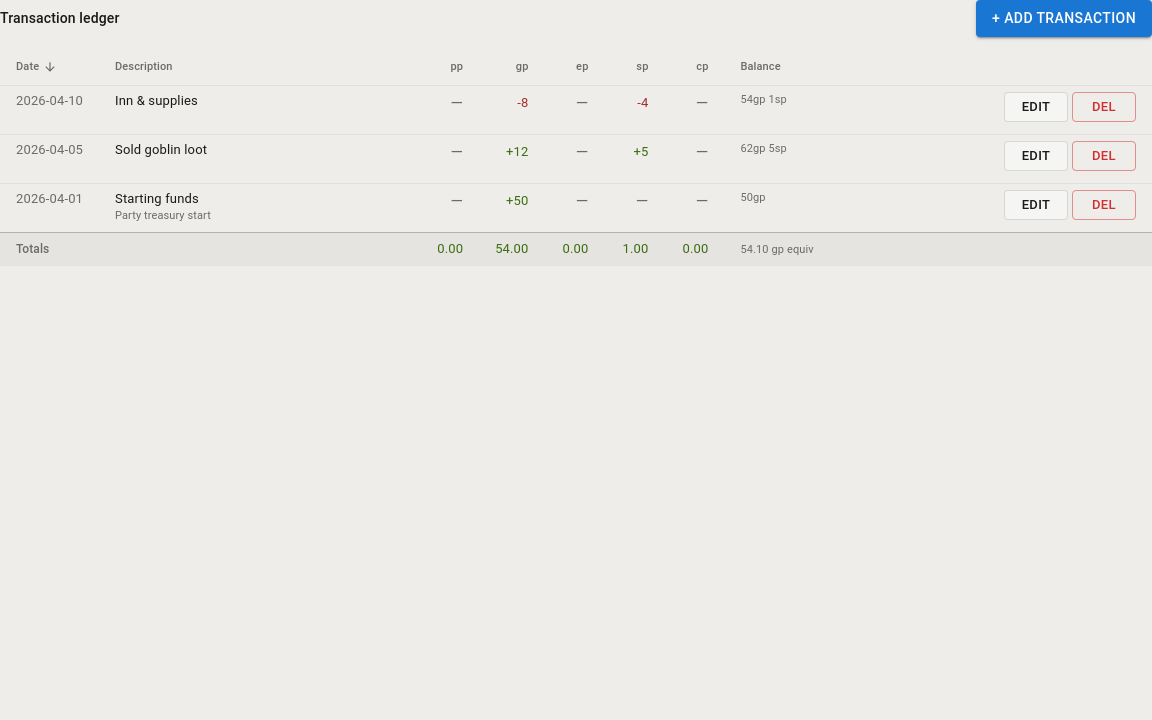
it: Ledger › opens the transaction modal when Add is clicked
Click the button "+ Add transaction". click: point(1064, 18)
box: [976, 0, 1151, 36]
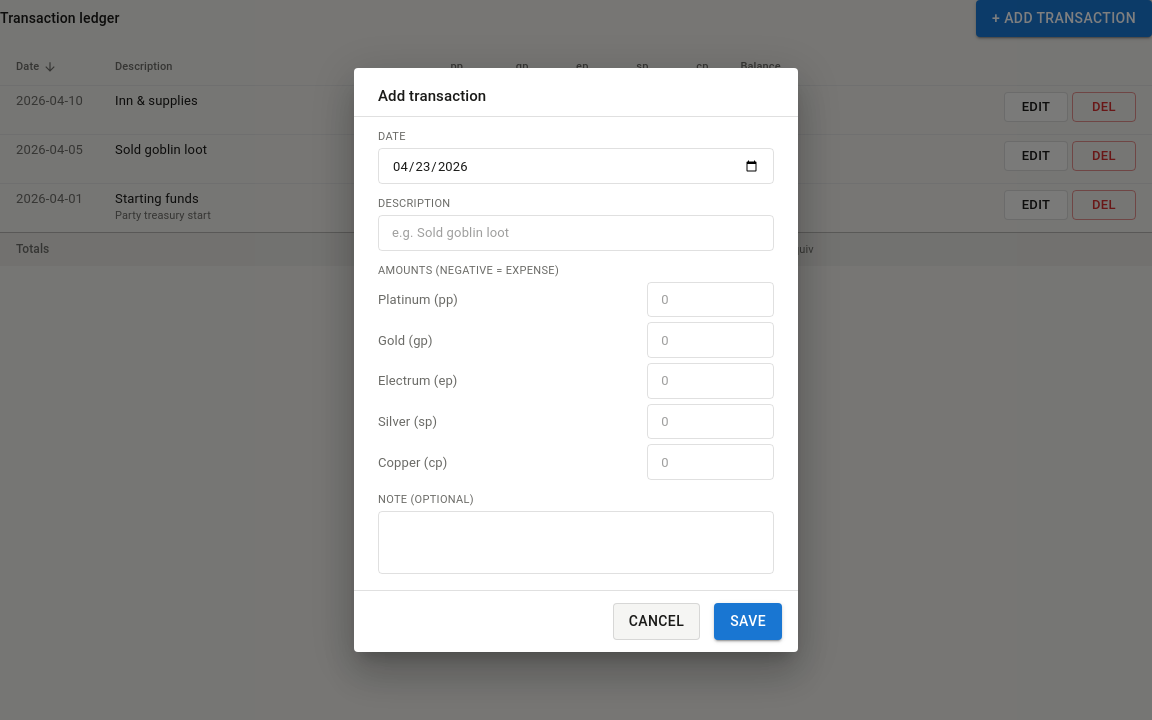
Result: the heading "Add transaction" is shown at [378, 87, 486, 105]
